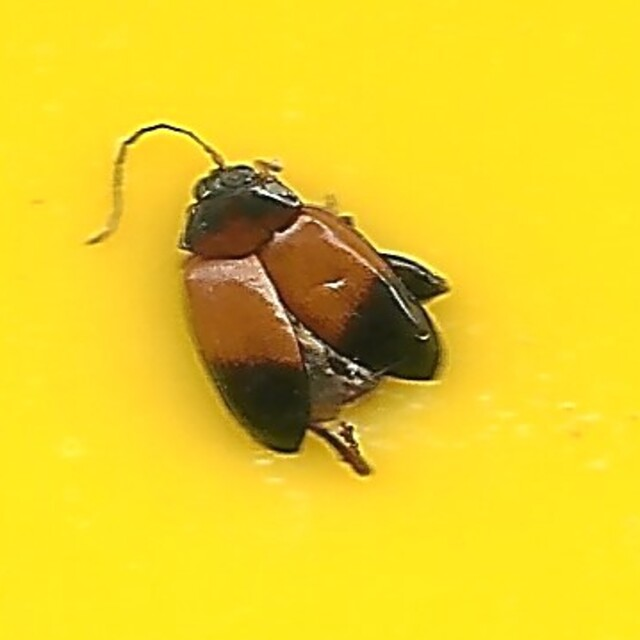Coleoptera: (178, 156, 462, 484)
